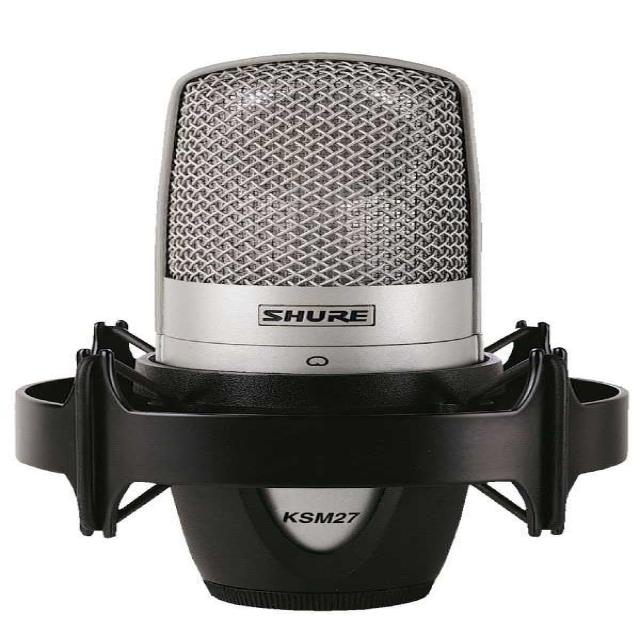microphone: (31, 65, 581, 597)
